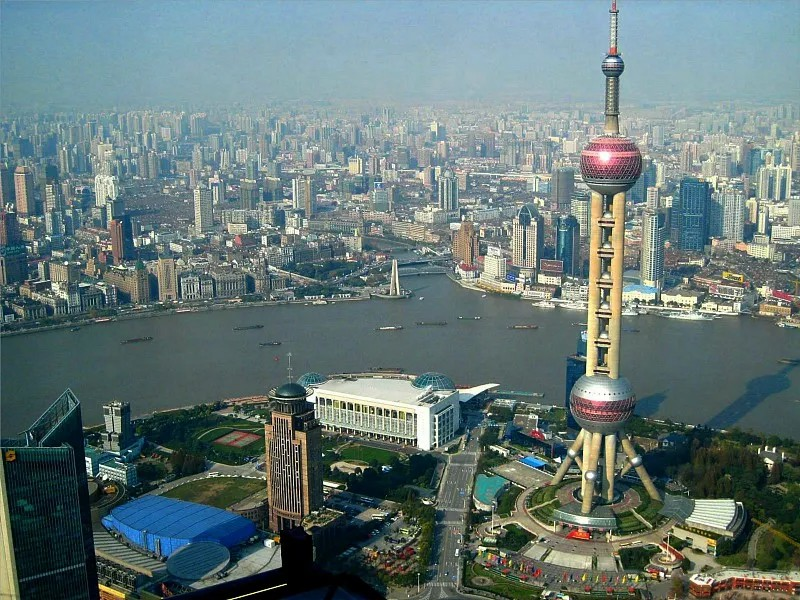Oriental: (551, 1, 662, 515)
